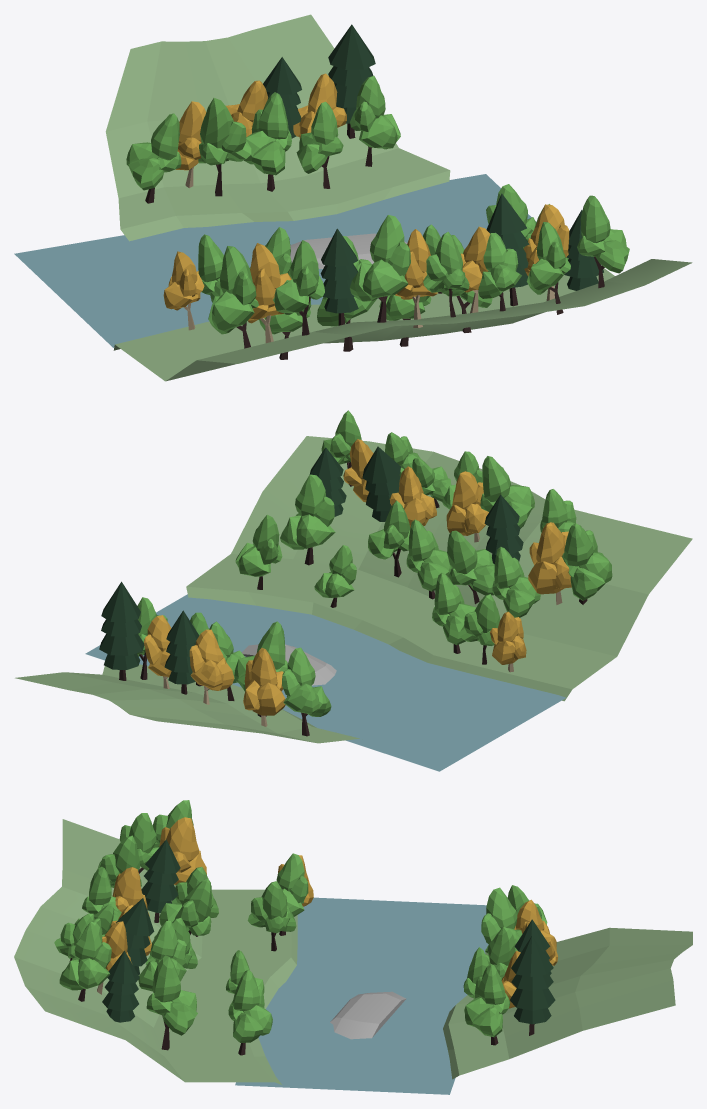
The model's file is sniperscene.fbx.
3 views of the same model, one above another, from view 1: azimuth 30°, elevation 25°; view 2: azimuth 150°, elevation 25°; view 3: azimuth 270°, elevation 25° (orthographic). The views are drawn at different scales.
Visible parts, largest first — view 1: polySurface3, pPlane1, pSphere16, pSphere32, pSphere5, pSphere6, rig3:pSphere5, pCone3, pSphere18, pSphere9, pSphere31, pCone5 (+23 smaller); view 2: polySurface3, pPlane1, pCone3, pSphere22, pSphere32, pSphere33, pSphere6, pSphere27, pSphere7, pSphere24, pSphere21, pSphere10 (+24 smaller); view 3: polySurface3, pPlane1, pCone3, pSphere22, polySurface2, pSphere18, pSphere30, pSphere9, pCone5, pCone4, pSphere23, pSphere27 (+19 smaller).
Boxes of the visible parts, <box> form: polySurface3: <box>105,14,692,381</box>; pPlane1: <box>14,174,536,347</box>; pSphere16: <box>350,215,410,322</box>; pSphere32: <box>208,246,258,348</box>; pSphere5: <box>244,92,291,191</box>; pSphere6: <box>126,113,181,203</box>; rig3:pSphere5: <box>198,98,251,196</box>; pCone3: <box>328,24,375,138</box>; pSphere18: <box>577,195,629,288</box>; pSphere9: <box>350,75,400,166</box>; pSphere31: <box>273,240,324,335</box>; pCone5: <box>320,228,358,325</box>; polySurface3: <box>15,436,692,743</box>; pPlane1: <box>85,594,566,771</box>; pCone3: <box>99,581,144,680</box>; pSphere22: <box>280,474,335,565</box>; pSphere32: <box>562,523,612,604</box>; pSphere33: <box>528,522,571,604</box>; pSphere6: <box>282,647,331,736</box>; pSphere27: <box>447,530,494,604</box>; pSphere7: <box>243,648,285,726</box>; pSphere24: <box>492,547,540,617</box>; pSphere21: <box>406,519,451,599</box>; pSphere10: <box>189,629,234,704</box>; polySurface3: <box>14,819,692,1084</box>; pPlane1: <box>235,897,488,1094</box>; pCone3: <box>510,935,555,1035</box>; pSphere22: <box>146,955,197,1050</box>; polySurface2: <box>330,991,406,1039</box>; pSphere18: <box>59,922,111,1001</box>; pSphere30: <box>228,970,272,1055</box>; pSphere9: <box>464,964,510,1045</box>; pCone5: <box>141,839,180,922</box>; pCone4: <box>102,950,139,1022</box>; pSphere23: <box>247,881,296,951</box>; pSphere27: <box>159,878,211,935</box>.
Size of the model in its own units: 111 by 38.27 by 157.
